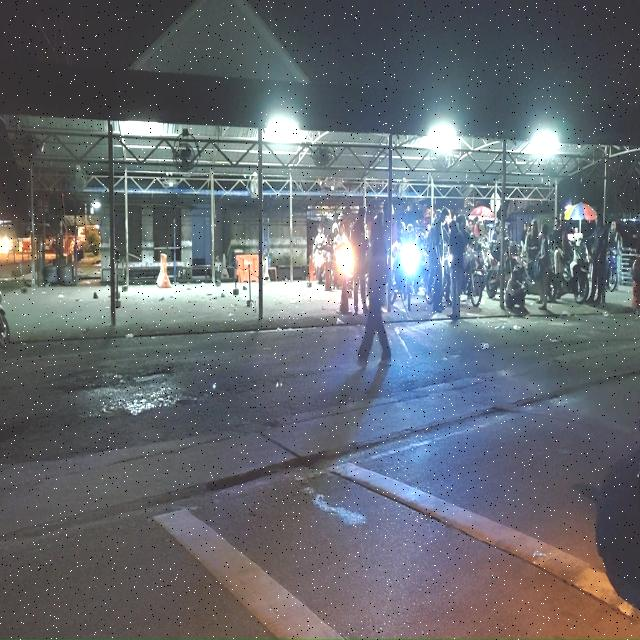Golongan II: (549, 242, 589, 304), (483, 239, 518, 299), (391, 243, 421, 310), (461, 249, 484, 307), (481, 242, 500, 300), (334, 244, 354, 288), (313, 244, 330, 285), (607, 248, 618, 292)
